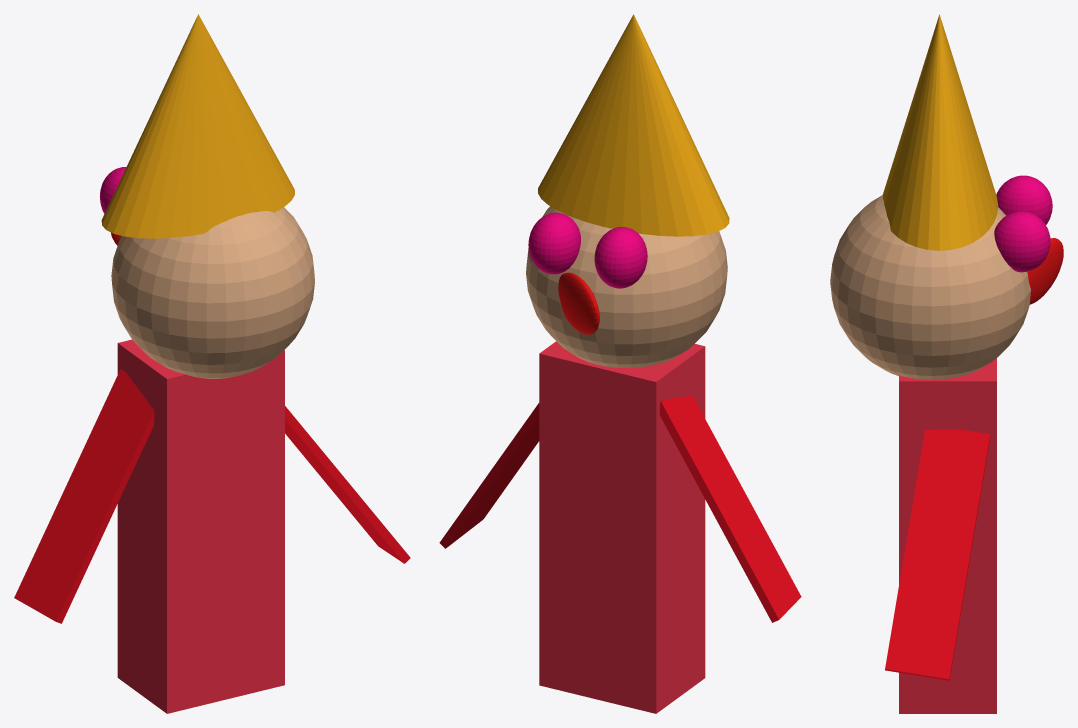
Rendered from clown.fbx.
The picture shows the model from 3 angles, left to right: view 1: azimuth 30°, elevation 25°; view 2: azimuth 150°, elevation 25°; view 3: azimuth 270°, elevation 25°; orthographic projection.
Parts seen in each view (by area): view 1: Cube, Sphere, Cone, Cube.001, Cube.003; view 2: Cube, Cone, Sphere, Cube.001, Cube.003, Sphere.003, Sphere.002, Sphere.001; view 3: Sphere, Cube, Cube.003, Cone, Sphere.002, Sphere.003, Sphere.001.
Part boxes in pixels (bbox=[...]): Cube: bbox=[117, 339, 284, 713]; Sphere: bbox=[111, 207, 314, 378]; Cone: bbox=[101, 14, 294, 238]; Cube.001: bbox=[14, 369, 154, 623]; Cube.003: bbox=[285, 406, 410, 563]; Cube: bbox=[539, 341, 705, 713]; Cone: bbox=[538, 14, 729, 236]; Sphere: bbox=[526, 206, 727, 367]; Cube.001: bbox=[659, 395, 801, 622]; Cube.003: bbox=[439, 403, 539, 548]; Sphere.003: bbox=[594, 227, 647, 288]; Sphere.002: bbox=[528, 212, 580, 274]; Sphere.001: bbox=[558, 272, 599, 334]; Sphere: bbox=[830, 195, 1030, 379]; Cube: bbox=[899, 358, 996, 713]; Cube.003: bbox=[885, 429, 990, 680]; Cone: bbox=[882, 14, 998, 250]; Sphere.002: bbox=[994, 211, 1050, 272]; Sphere.003: bbox=[996, 175, 1052, 224]; Sphere.001: bbox=[1027, 238, 1063, 304].
Size of the model in its own units: 393 by 708 by 224.
